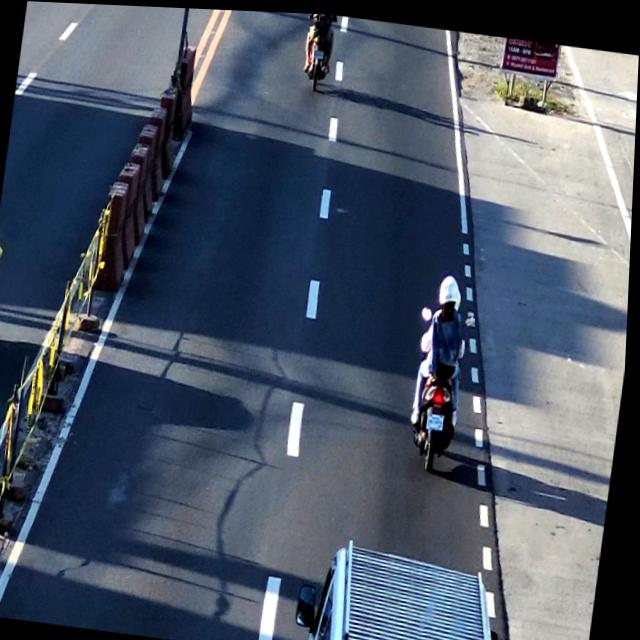License-Plate: (428, 407, 450, 429), (310, 45, 325, 58)
Motorcycle: (409, 270, 476, 461), (296, 10, 338, 85)
Truck: (301, 535, 520, 640)
